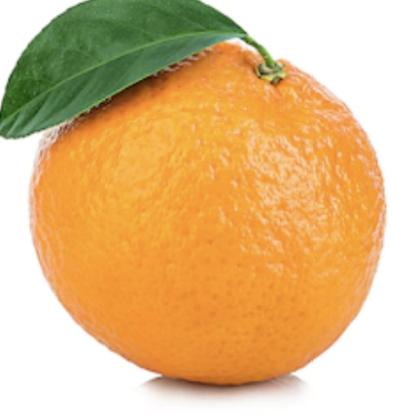fresh: (32, 33, 385, 385)
